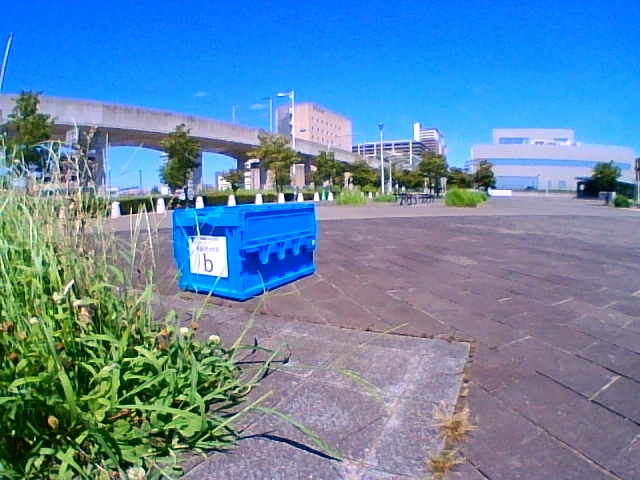blue_box: (179, 209, 283, 286)
tag_b: (191, 237, 227, 273)
